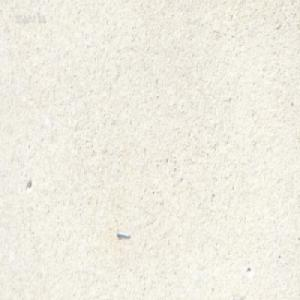Nail: (115, 228, 130, 238)
